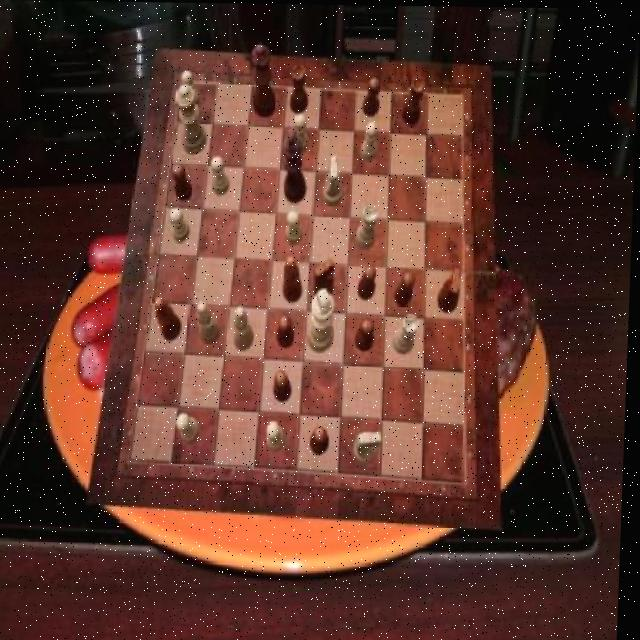bishop: (155, 296, 184, 340), (284, 256, 305, 302)
black-bishop: (282, 126, 309, 203)
black-king: (439, 266, 463, 312), (315, 258, 337, 302)
black-knight: (172, 164, 194, 200), (396, 271, 417, 306), (363, 77, 381, 117), (360, 264, 379, 300), (357, 318, 377, 351), (279, 314, 297, 348), (276, 370, 294, 402), (312, 427, 332, 455)
black-pawn: (250, 42, 279, 117)
black-queen: (401, 76, 425, 125), (290, 63, 309, 113)
black-rook: (196, 301, 222, 343), (234, 304, 256, 350)
white-bishop: (308, 288, 336, 353)
white-king: (323, 155, 345, 204), (356, 430, 384, 465)
white-knight: (180, 70, 201, 110), (211, 156, 231, 195), (361, 121, 380, 161), (180, 413, 204, 444), (291, 114, 309, 155), (170, 207, 191, 242), (287, 211, 305, 245), (269, 420, 288, 451)
white-pawn: (175, 84, 210, 155)
white-queen: (393, 312, 420, 352), (357, 204, 380, 248)
